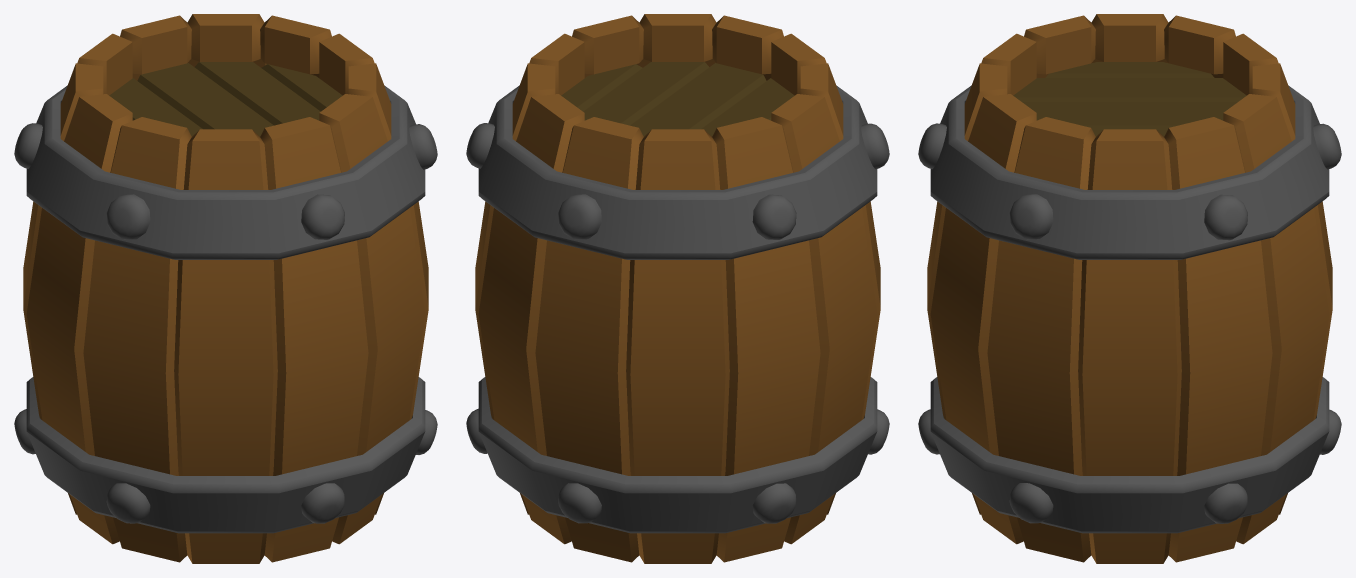
The model's file is Barrel.fbx.
The picture shows the model from 3 angles, left to right: view 1: azimuth 30°, elevation 25°; view 2: azimuth 150°, elevation 25°; view 3: azimuth 270°, elevation 25°; orthographic projection.
Parts seen in each view (by area): view 1: Cylinder, Cylinder.001, Cylinder.003, Cylinder.002; view 2: Cylinder, Cylinder.001, Cylinder.003, Cylinder.002; view 3: Cylinder, Cylinder.001, Cylinder.003, Cylinder.002.
Boxes of the visible parts, x1,y1,x2,y2 form: Cylinder: [23, 14, 428, 563]; Cylinder.001: [26, 85, 425, 533]; Cylinder.003: [109, 62, 342, 136]; Cylinder.002: [14, 123, 437, 523]; Cylinder: [475, 14, 880, 563]; Cylinder.001: [478, 85, 877, 533]; Cylinder.003: [561, 62, 794, 136]; Cylinder.002: [466, 123, 889, 523]; Cylinder: [927, 14, 1332, 563]; Cylinder.001: [930, 85, 1329, 533]; Cylinder.003: [1013, 62, 1246, 136]; Cylinder.002: [918, 123, 1341, 523].
Bounding box in the file's own units: 261 × 300 × 272.
